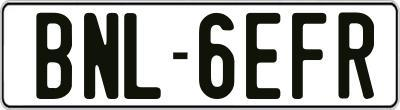6: (198, 12, 237, 98)
B: (33, 13, 70, 101)
E: (243, 13, 281, 103)
F: (289, 13, 325, 103)
L: (124, 11, 164, 97)
N: (81, 13, 115, 102)
R: (339, 10, 378, 98)
